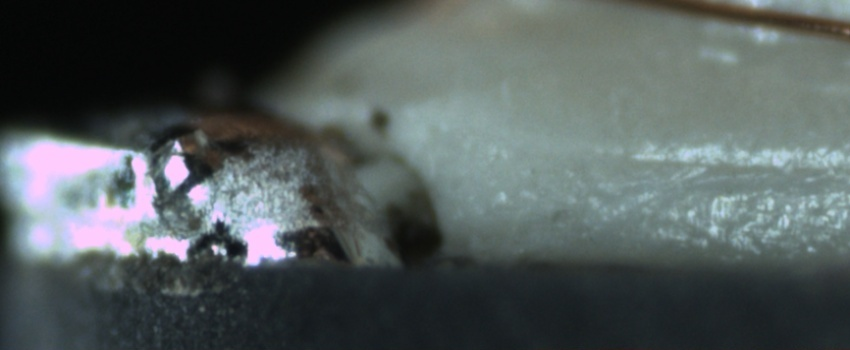DL: (625, 139, 850, 203)
